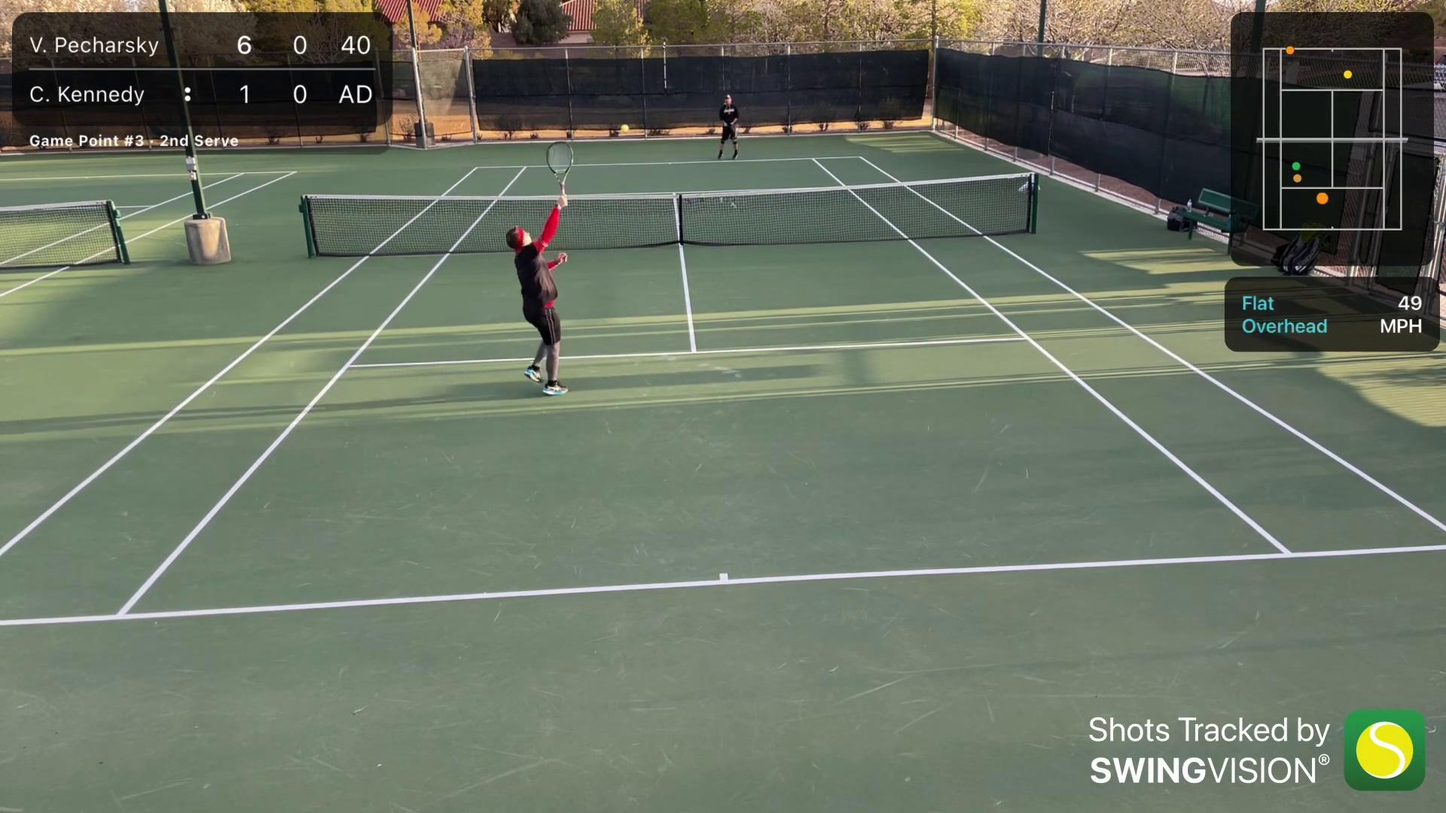ball: (624, 127, 628, 130)
